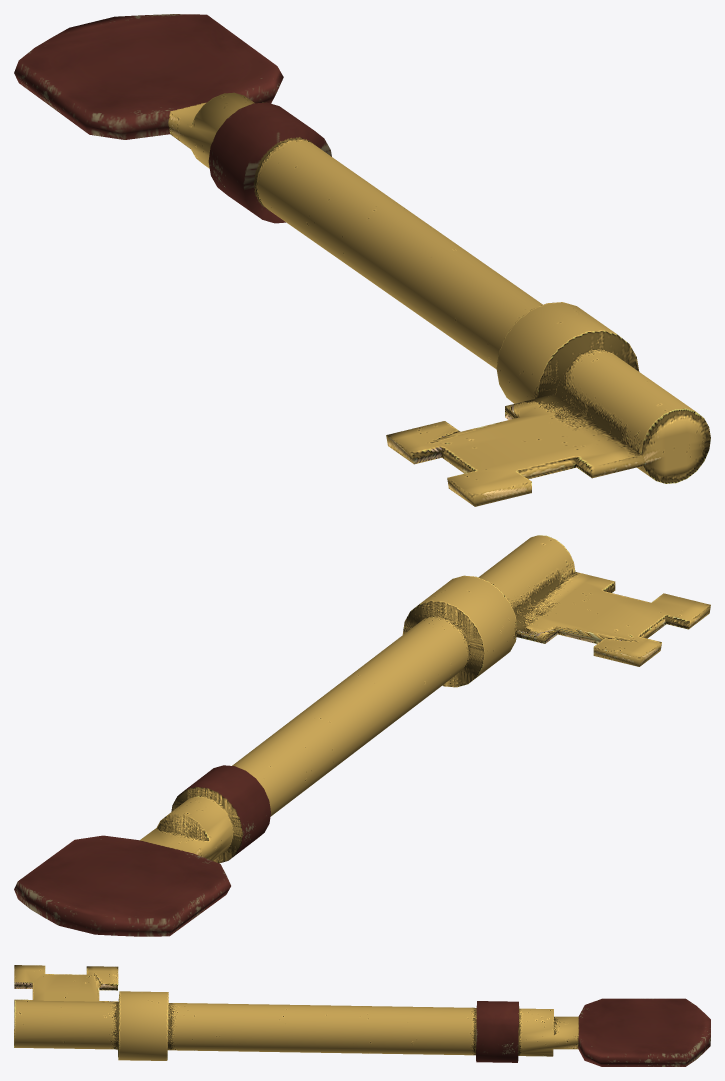
Rendered from ASM - PBR Metallic Roughness.glb.
3 renders of one model, top to bottom at view 1: azimuth 30°, elevation 25°; view 2: azimuth 150°, elevation 25°; view 3: azimuth 270°, elevation 25°, orthographic. The views are drawn at different scales.
Visible parts, largest first — view 1: Llave; view 2: Llave; view 3: Llave.
Boxes of the visible parts, <box> form: Llave: <box>14,14,710,506</box>; Llave: <box>14,535,710,936</box>; Llave: <box>14,965,710,1066</box>.
Size of the model in its own units: 0.0254 by 0.0089 by 0.0853.
Materials: 1 (1 with a texture image).
